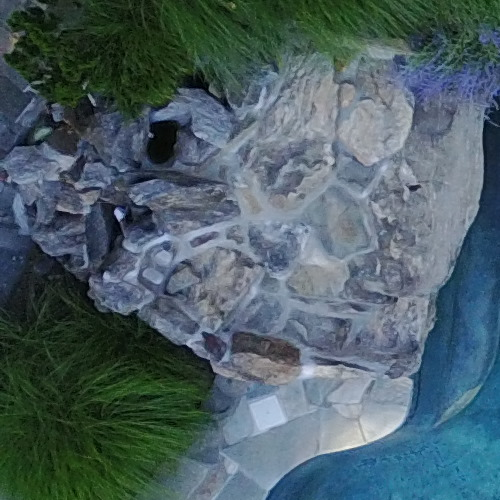larvae: (154, 61, 245, 120), (124, 109, 196, 170)
stone feature: (156, 63, 247, 122), (126, 111, 198, 172)
